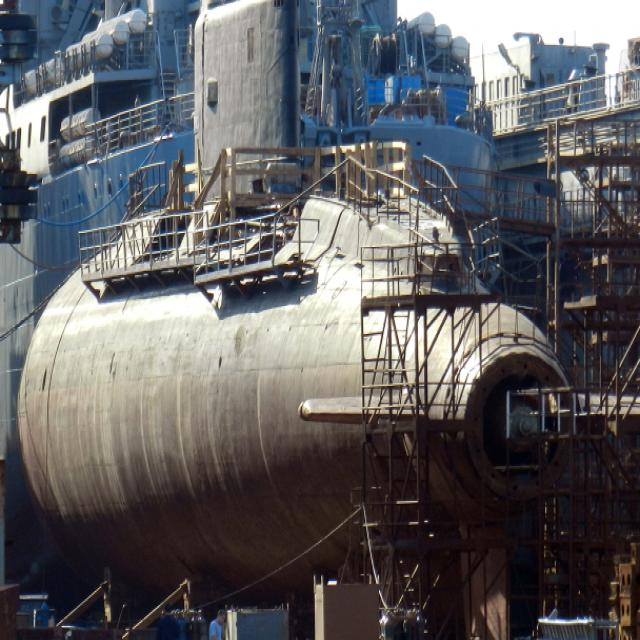submarine: (25, 1, 553, 562)
